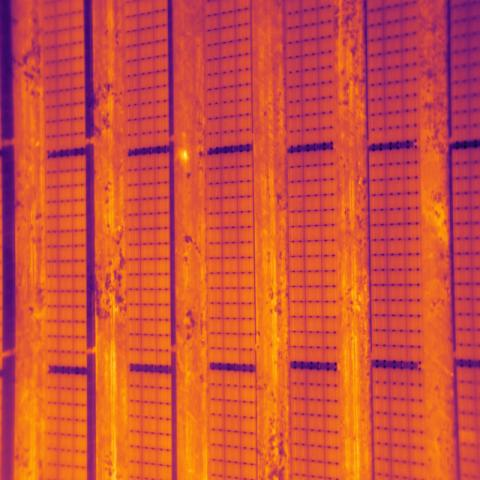fault: (459, 429, 478, 445)
